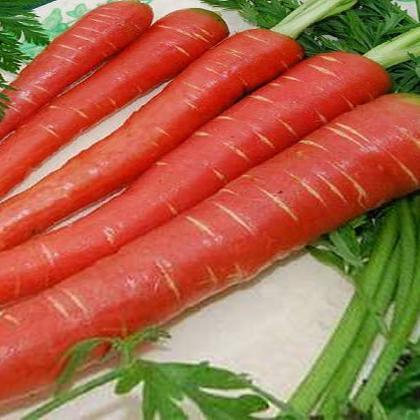carrot: (10, 12, 285, 292)
